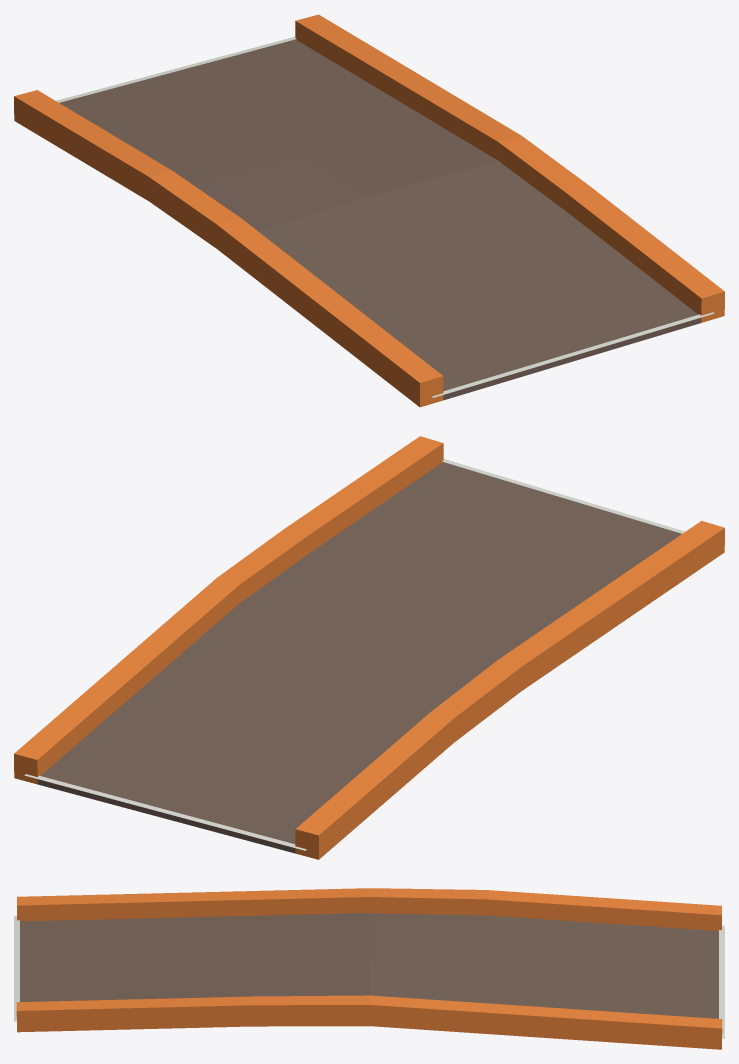
File: SM_MP_Film_C_5_1.fbx
The picture shows the model from 3 angles, top to bottom: view 1: azimuth 30°, elevation 25°; view 2: azimuth 150°, elevation 25°; view 3: azimuth 270°, elevation 25°; orthographic projection. The views are drawn at different scales.
Visible parts, largest first — view 1: SM_MP_Film_C_5_1; view 2: SM_MP_Film_C_5_1; view 3: SM_MP_Film_C_5_1.
Part boxes in pixels (<box>): SM_MP_Film_C_5_1: <box>14,14,724,407</box>; SM_MP_Film_C_5_1: <box>14,436,724,859</box>; SM_MP_Film_C_5_1: <box>14,888,724,1049</box>.
Size of what is drawn, in the model's own units: 260 by 605 by 48.27.
